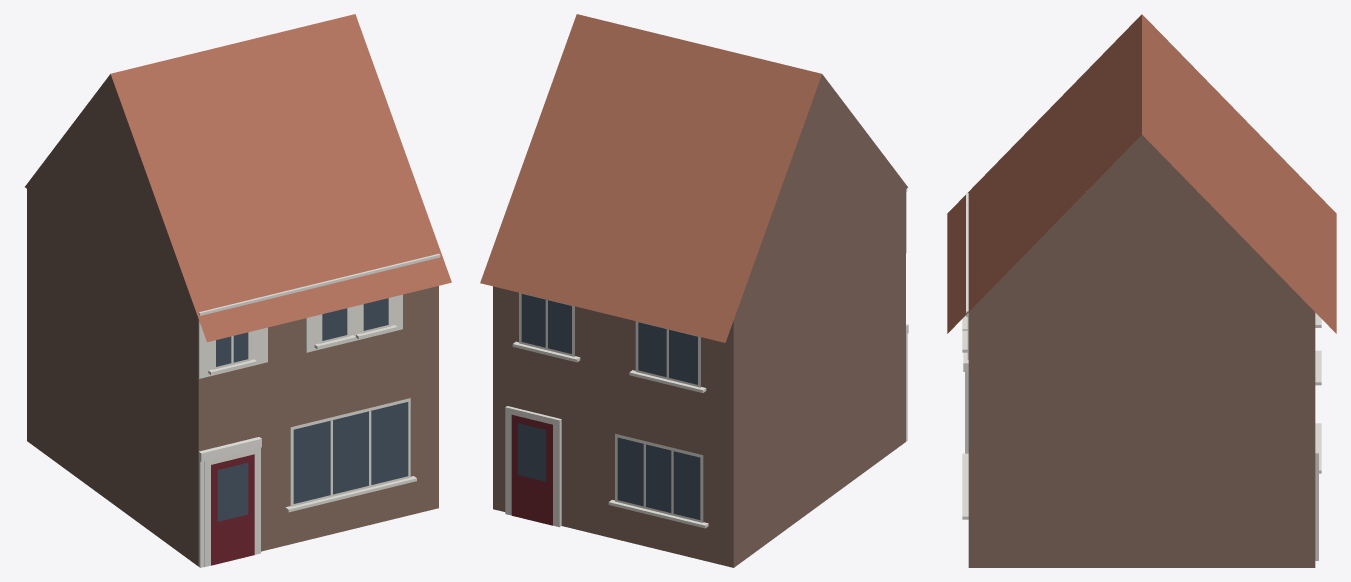
File: nn-band__panels__2__gable__long__solid.glb
3 views of the same model, side by side, from view 1: azimuth 30°, elevation 25°; view 2: azimuth 150°, elevation 25°; view 3: azimuth 270°, elevation 25° (orthographic).
Visible parts, largest first — view 1: nn-band__panels__2__gable__long__solid; view 2: nn-band__panels__2__gable__long__solid; view 3: nn-band__panels__2__gable__long__solid.
Part boxes in pixels (x1,y1,x2,y2): nn-band__panels__2__gable__long__solid: (25,14,451,567); nn-band__panels__2__gable__long__solid: (480,14,908,567); nn-band__panels__2__gable__long__solid: (947,14,1336,567).
Bounding box in the file's own units: 5.34 × 8.97 × 7.29.
